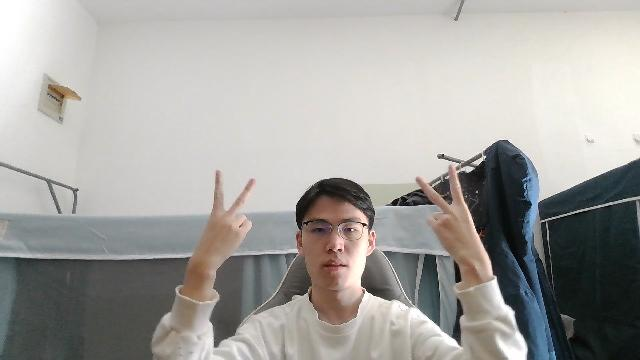yes: (415, 164, 490, 273), (190, 166, 258, 270)
